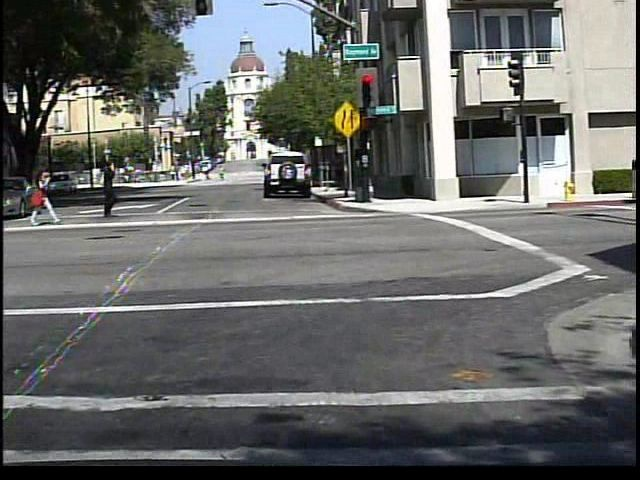person: (87, 157, 125, 222), (26, 164, 55, 230), (212, 163, 223, 184), (200, 165, 210, 184)
